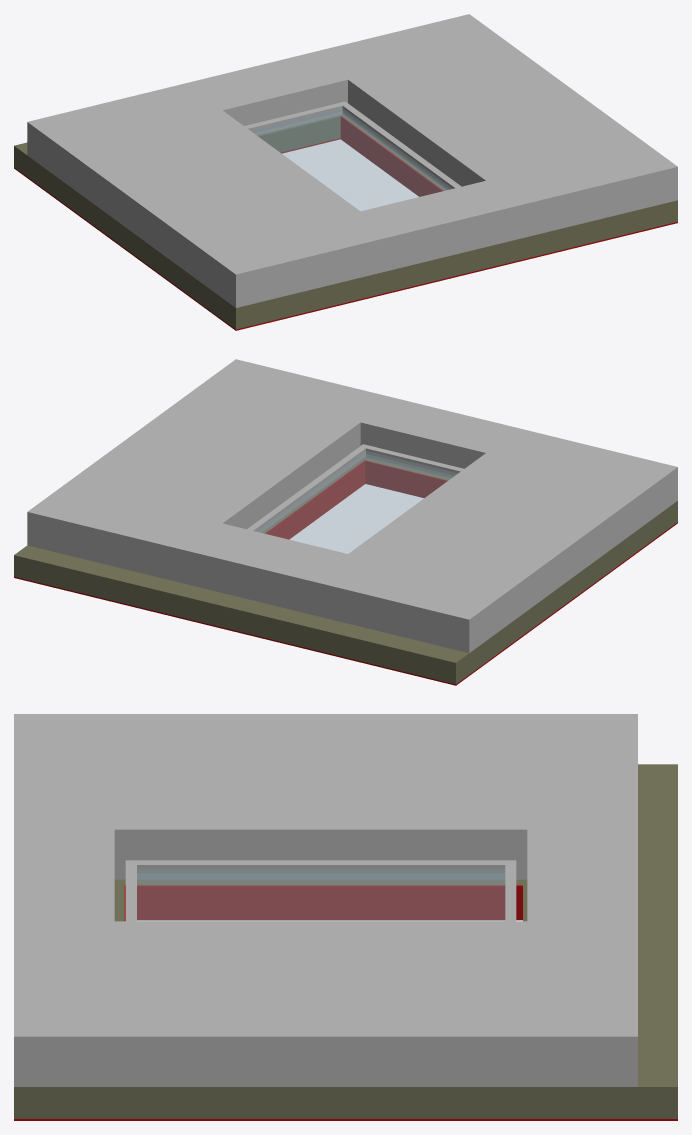
The picture shows the model from 3 angles, top to bottom: view 1: azimuth 30°, elevation 25°; view 2: azimuth 150°, elevation 25°; view 3: azimuth 270°, elevation 25°; orthographic projection. The views are drawn at different scales.
Parts seen in each view (by area): view 1: id-32, id-37, id-280, id-48, id-288, id-40; view 2: id-32, id-37, id-280, id-288 (×2), id-48, id-40; view 3: id-32, id-37, id-280, id-288, id-48, id-40.
Part boxes in pixels (<box>): id-32: <box>27,14,677,307</box>; id-37: <box>14,114,677,329</box>; id-280: <box>251,108,451,210</box>; id-48: <box>244,101,461,189</box>; id-288: <box>340,116,443,196</box>; id-40: <box>14,138,677,330</box>; id-32: <box>27,359,677,653</box>; id-37: <box>14,457,677,684</box>; id-280: <box>257,451,457,553</box>; id-288 (×2): <box>265,460,447,539</box>; id-48: <box>247,444,463,532</box>; id-40: <box>14,482,677,685</box>; id-32: <box>14,714,637,1086</box>; id-37: <box>14,764,677,1118</box>; id-280: <box>137,869,504,920</box>; id-288: <box>124,885,522,918</box>; id-48: <box>125,860,516,921</box>; id-40: <box>14,918,677,1120</box>.
Bounding box in the file's own units: 3.45 × 0.42 × 3.
